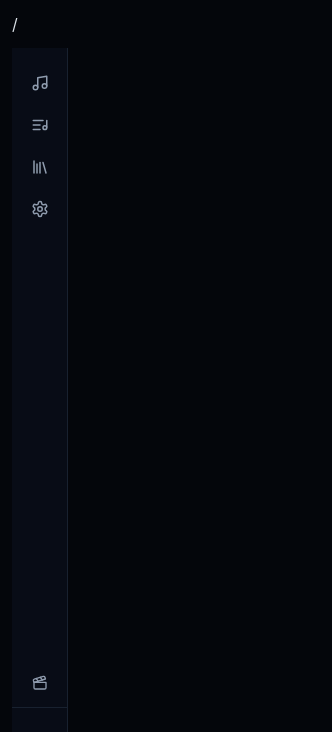
Test: app mode navigation (QYP3-040) › switching back to video navigates to the video home
The width and height of the screenshot is (332, 732).
Expected: the button named "歌单" is shown, [20,106,59,144]
Click the button named "返回影视" at point(40, 683), box [20,667,59,699]
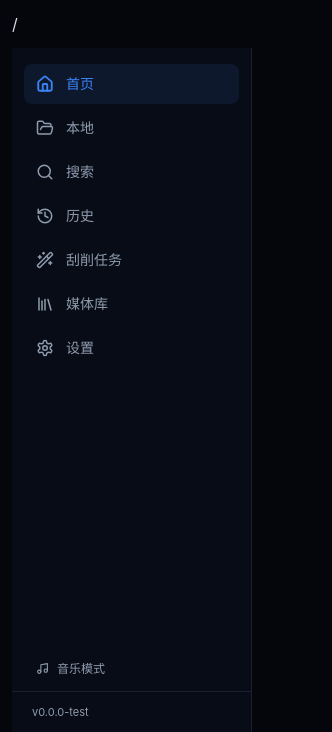
Expected: the text with test id "location" reads "/", [12,14,18,34]
Result: the button "首页" is shown at [24,64,239,104]
Result: the button "歌单" is gone
